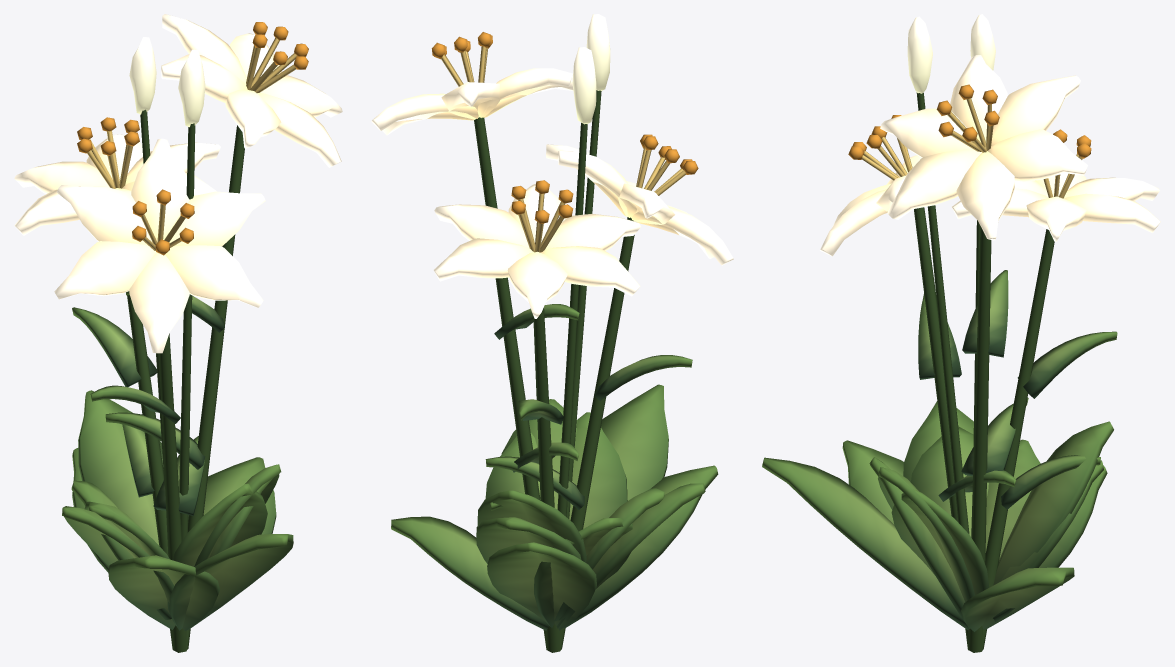
The model's file is hero_whitelily.glb.
3 renders of one model, left to right at view 1: azimuth 30°, elevation 25°; view 2: azimuth 150°, elevation 25°; view 3: azimuth 270°, elevation 25°, orthographic.
Visible parts, largest first — view 1: hero_petal_ivory, hero_leaf, hero_stem; view 2: hero_leaf, hero_petal_ivory, hero_stem; view 3: hero_leaf, hero_petal_ivory, hero_stem.
Part boxes in pixels (box(x1,y1,x2,y2)): hero_petal_ivory: box(14, 14, 342, 353); hero_leaf: box(62, 291, 293, 630); hero_stem: box(77, 22, 308, 652); hero_leaf: box(391, 304, 718, 630); hero_petal_ivory: box(371, 14, 733, 318); hero_stem: box(431, 32, 698, 652); hero_leaf: box(762, 270, 1117, 631); hero_petal_ivory: box(820, 14, 1160, 256); hero_stem: box(848, 84, 1091, 652).
Size of the model in its own units: 0.5384 by 1 by 0.5782.
